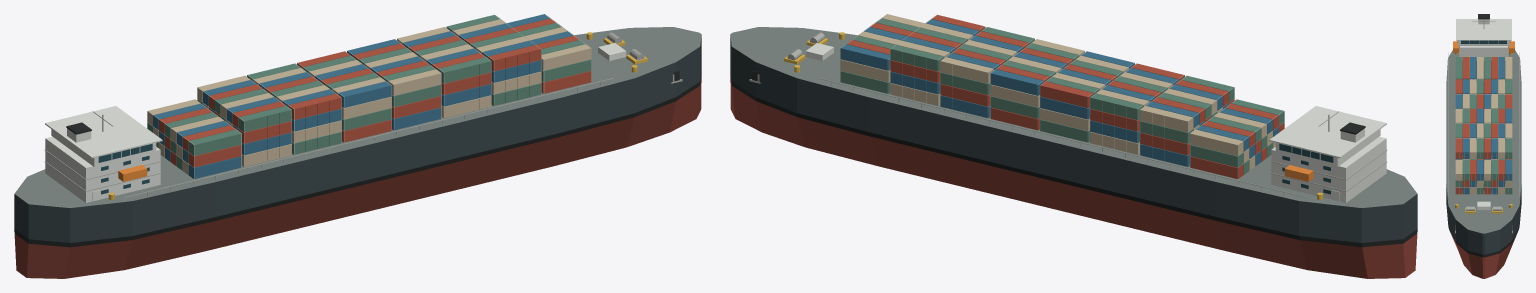
Rendered from container-ship-feeder.glb.
3 renders of one model, left to right at view 1: azimuth 30°, elevation 25°; view 2: azimuth 150°, elevation 25°; view 3: azimuth 270°, elevation 25°, orthographic. The views are drawn at different scales.
Parts seen in each view (by area): view 1: upper hull, red hull, deck, container red, container green, container tan, container blue, white, boot top, rail, dark window; view 2: upper hull, red hull, deck, container green, container tan, container red, container blue, white, boot top, rail, dark window; view 3: deck, container green, container tan, container red, container blue, white, upper hull, red hull, rail, boot top, dark window, orange (+2 smaller).
Part boxes in pixels (box(x1,y1,x2,y2)): upper hull: box(14, 35, 701, 242); red hull: box(14, 74, 701, 278); deck: box(14, 27, 701, 207); container red: box(159, 18, 591, 167); container green: box(147, 15, 591, 170); container tan: box(147, 19, 591, 174); container blue: box(153, 14, 573, 178); white: box(45, 43, 626, 202); boot top: box(14, 70, 701, 247); rail: box(44, 14, 614, 201); dark window: box(98, 143, 152, 194); upper hull: box(730, 35, 1417, 242); red hull: box(730, 74, 1417, 278); deck: box(730, 27, 1417, 207); container green: box(840, 18, 1284, 174); container tan: box(840, 14, 1275, 170); container red: box(847, 15, 1284, 178); container blue: box(840, 19, 1278, 166); white: box(805, 43, 1386, 202); boot top: box(730, 70, 1417, 247); rail: box(817, 14, 1387, 201); dark window: box(1279, 143, 1333, 194); deck: box(1446, 50, 1521, 233); container green: box(1455, 57, 1512, 194); container tan: box(1455, 57, 1512, 194); container red: box(1455, 57, 1512, 194); container blue: box(1455, 57, 1512, 194); white: box(1456, 19, 1511, 209); upper hull: box(1446, 184, 1521, 254); red hull: box(1450, 232, 1517, 278); rail: box(1448, 19, 1519, 196); boot top: box(1448, 14, 1519, 257); dark window: box(1457, 40, 1510, 47); orange: box(1453, 41, 1514, 52).
Size of the model in its own units: 170 by 33.4 by 27.
